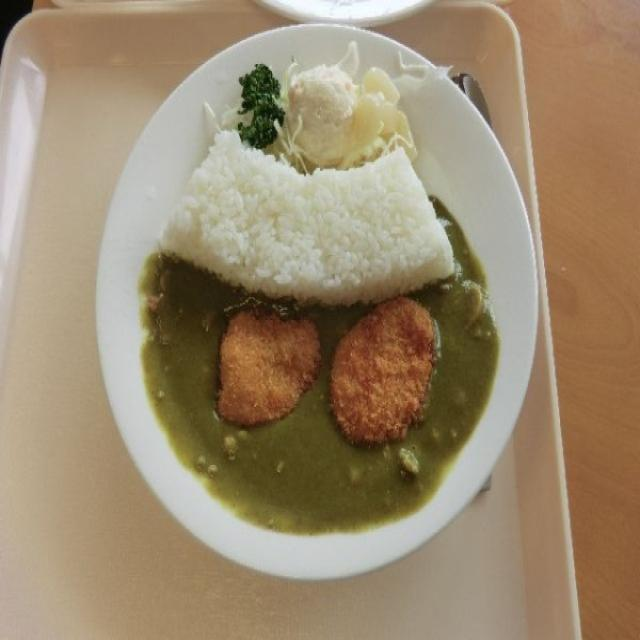Beef Curry: (180, 290, 458, 524)
